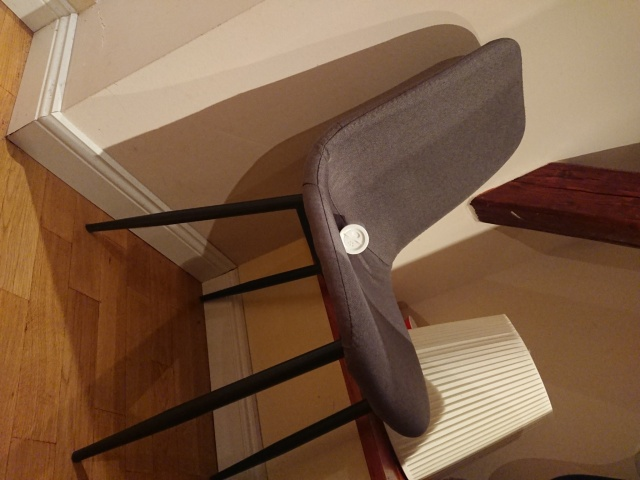Solana Pag Fine Sea Salt 250g: (336, 221, 373, 256)
